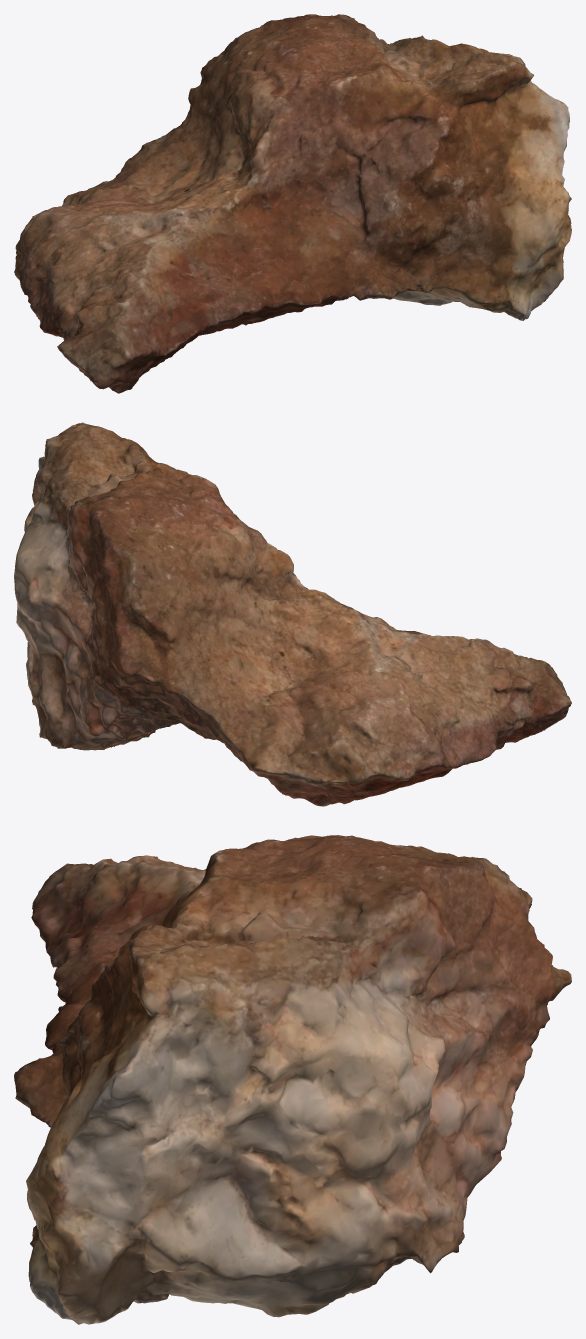
The model's file is stone_01.glb.
3 renders of one model, top to bottom at view 1: azimuth 30°, elevation 25°; view 2: azimuth 150°, elevation 25°; view 3: azimuth 270°, elevation 25°, orthographic. The views are drawn at different scales.
Parts seen in each view (by area): view 1: stone_01; view 2: stone_01; view 3: stone_01.
Boxes of the visible parts, x1,y1,x2,y2 form: stone_01: (14, 14, 571, 393); stone_01: (14, 422, 571, 806); stone_01: (14, 835, 571, 1324).
Size of the model in its own units: 0.1469 by 0.0718 by 0.0891.
1 material, 1 textured.
